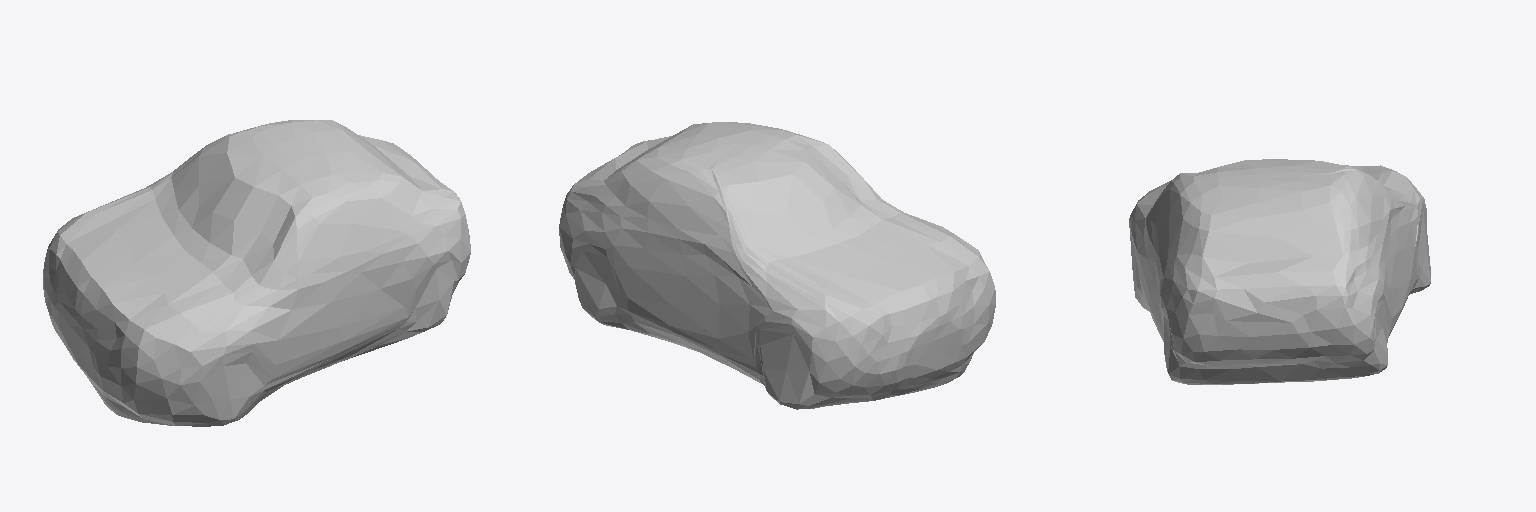
Rendered from video3_260.obj.
3 renders of one model, left to right at view 1: azimuth 30°, elevation 25°; view 2: azimuth 150°, elevation 25°; view 3: azimuth 270°, elevation 25°, orthographic.
Bounding box in the file's own units: 1 × 0.5331 × 0.7294.